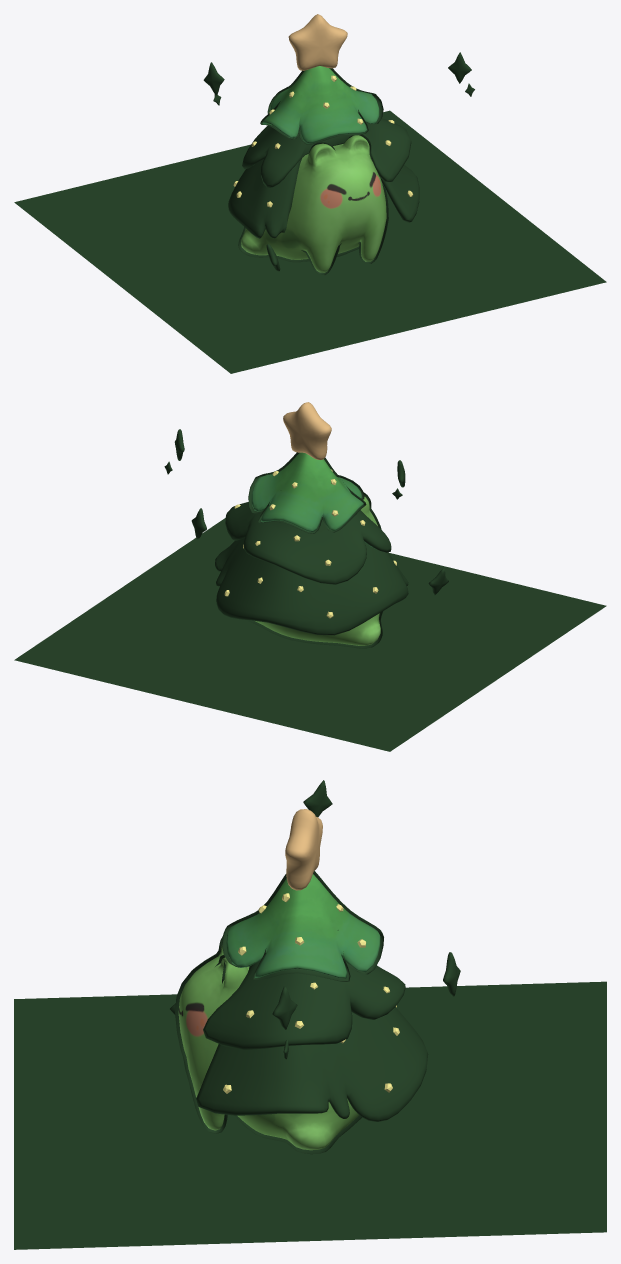
The model's file is cruak.obj.
3 renders of one model, top to bottom at view 1: azimuth 30°, elevation 25°; view 2: azimuth 150°, elevation 25°; view 3: azimuth 270°, elevation 25°, orthographic. The views are drawn at different scales.
Parts seen in each view (by area): view 1: pPlane1, ranita, arbol1, arbol, pCylinder2, pCylinder3 pCylinder4 pCylinder5 pCylinder6 pCylinder7 pCylinder, ranita1; view 2: pPlane1, arbol1, arbol, pCylinder2, ranita, pCylinder3 pCylinder4 pCylinder5 pCylinder6 pCylinder7 pCylinder, ranita1, pSphere4 bolitas pSphere5 pSphere3 pSphere1 pSphere6 pSphere7 pS; view 3: pPlane1, arbol1, arbol, ranita, pCylinder2, pCylinder3 pCylinder4 pCylinder5 pCylinder6 pCylinder7 pCylinder, ranita1, pSphere4 bolitas pSphere5 pSphere3 pSphere1 pSphere6 pSphere7 pS.
Boxes of the visible parts, box(x1,y1,x2,y2) form: pPlane1: box(14, 110, 606, 373); ranita: box(241, 135, 386, 272); arbol1: box(228, 68, 419, 238); arbol: box(262, 66, 386, 191); pCylinder2: box(288, 14, 347, 70); pCylinder3 pCylinder4 pCylinder5 pCylinder6 pCylinder7 pCylinder: box(203, 52, 474, 271); ranita1: box(238, 134, 388, 274); pPlane1: box(14, 518, 606, 751); arbol1: box(215, 452, 408, 635); arbol: box(251, 452, 374, 548); pCylinder2: box(283, 402, 331, 459); ranita: box(255, 496, 380, 645); pCylinder3 pCylinder4 pCylinder5 pCylinder6 pCylinder7 pCylinder: box(164, 429, 448, 595); ranita1: box(246, 492, 383, 648); pSphere4 bolitas pSphere5 pSphere3 pSphere1 pSphere6 pSphere7 pS: box(224, 469, 396, 618); pPlane1: box(14, 981, 606, 1249); arbol1: box(196, 871, 428, 1121); arbol: box(226, 874, 380, 978); ranita: box(178, 945, 358, 1150); pCylinder2: box(285, 809, 322, 890); pCylinder3 pCylinder4 pCylinder5 pCylinder6 pCylinder7 pCylinder: box(170, 780, 460, 1059); ranita1: box(175, 936, 361, 1154); pSphere4 bolitas pSphere5 pSphere3 pSphere1 pSphere6 pSphere7 pS: box(223, 893, 399, 1093).
Size of the model in its own units: 50.78 by 30.19 by 50.76.
